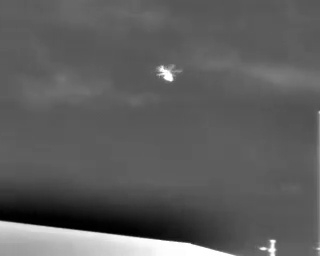HELICOPTER: (152, 57, 188, 89)
